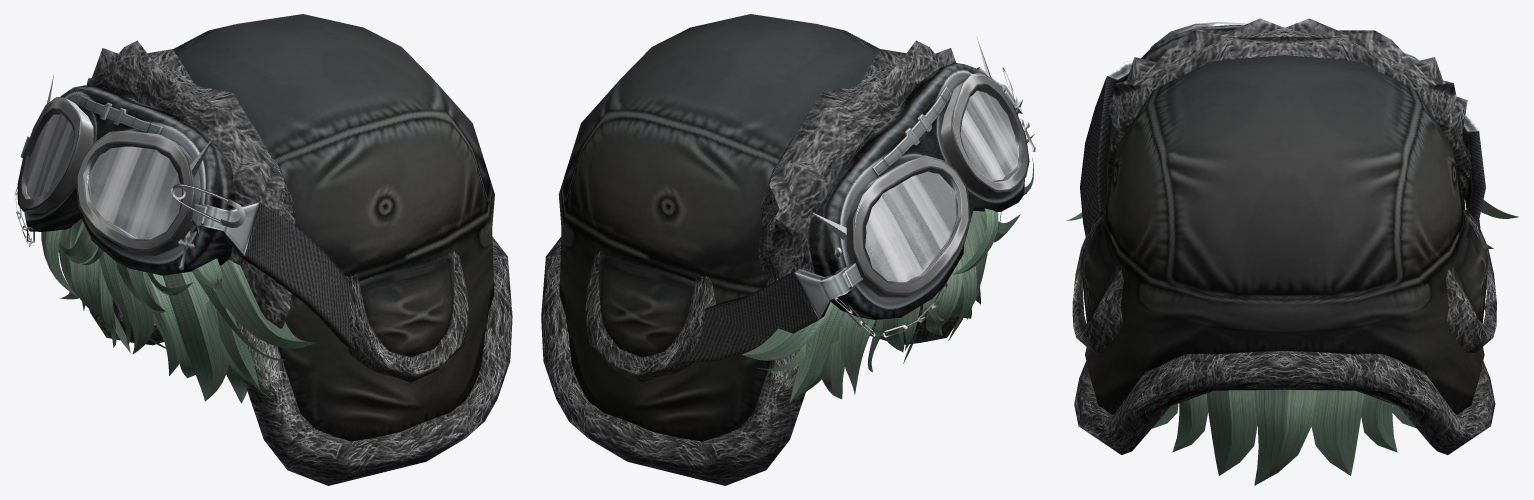
Rendered from 22-Green-Cool-Messy-Boy-Hair-w-Y2K-Goggles-Ushanka-87890006358128.glb.
3 renders of one model, left to right at view 1: azimuth 30°, elevation 25°; view 2: azimuth 150°, elevation 25°; view 3: azimuth 270°, elevation 25°, orthographic. The views are drawn at different scales.
Parts seen in each view (by area): view 1: 22-Green-Cool-Messy-Boy-Hair-w-Y2K-Goggles-Ushanka-878900063; view 2: 22-Green-Cool-Messy-Boy-Hair-w-Y2K-Goggles-Ushanka-878900063; view 3: 22-Green-Cool-Messy-Boy-Hair-w-Y2K-Goggles-Ushanka-878900063.
Part boxes in pixels (box(x1,y1,x2,y2)): 22-Green-Cool-Messy-Boy-Hair-w-Y2K-Goggles-Ushanka-878900063: box(14, 14, 512, 485); 22-Green-Cool-Messy-Boy-Hair-w-Y2K-Goggles-Ushanka-878900063: box(541, 14, 1035, 485); 22-Green-Cool-Messy-Boy-Hair-w-Y2K-Goggles-Ushanka-878900063: box(1066, 18, 1518, 485).
Bounding box in the file's own units: 2.03 × 1.82 × 2.04.
Materials: 1 (1 with a texture image).
